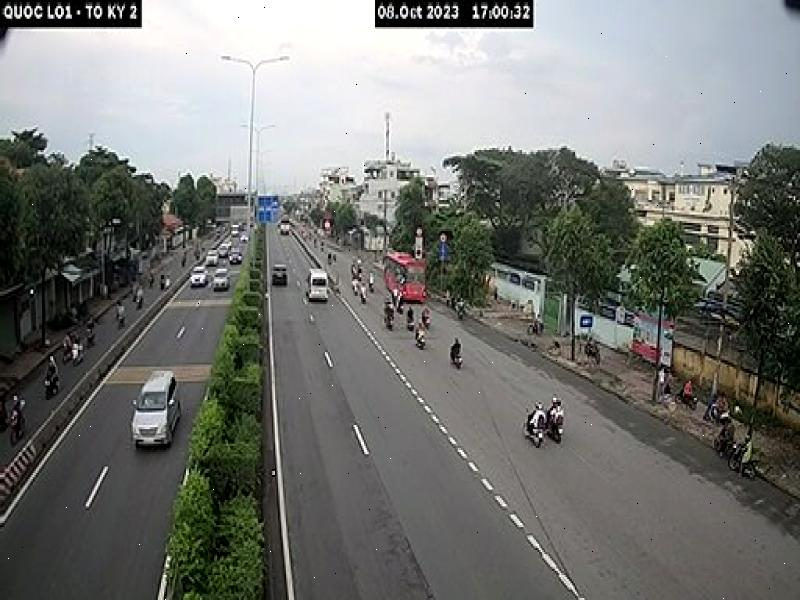bus: (379, 249, 429, 307)
car: (127, 367, 183, 454), (302, 267, 330, 305), (270, 261, 292, 288), (212, 266, 232, 292), (189, 263, 207, 288)
motorcycle: (728, 445, 762, 483), (520, 414, 544, 448), (542, 415, 566, 446)
